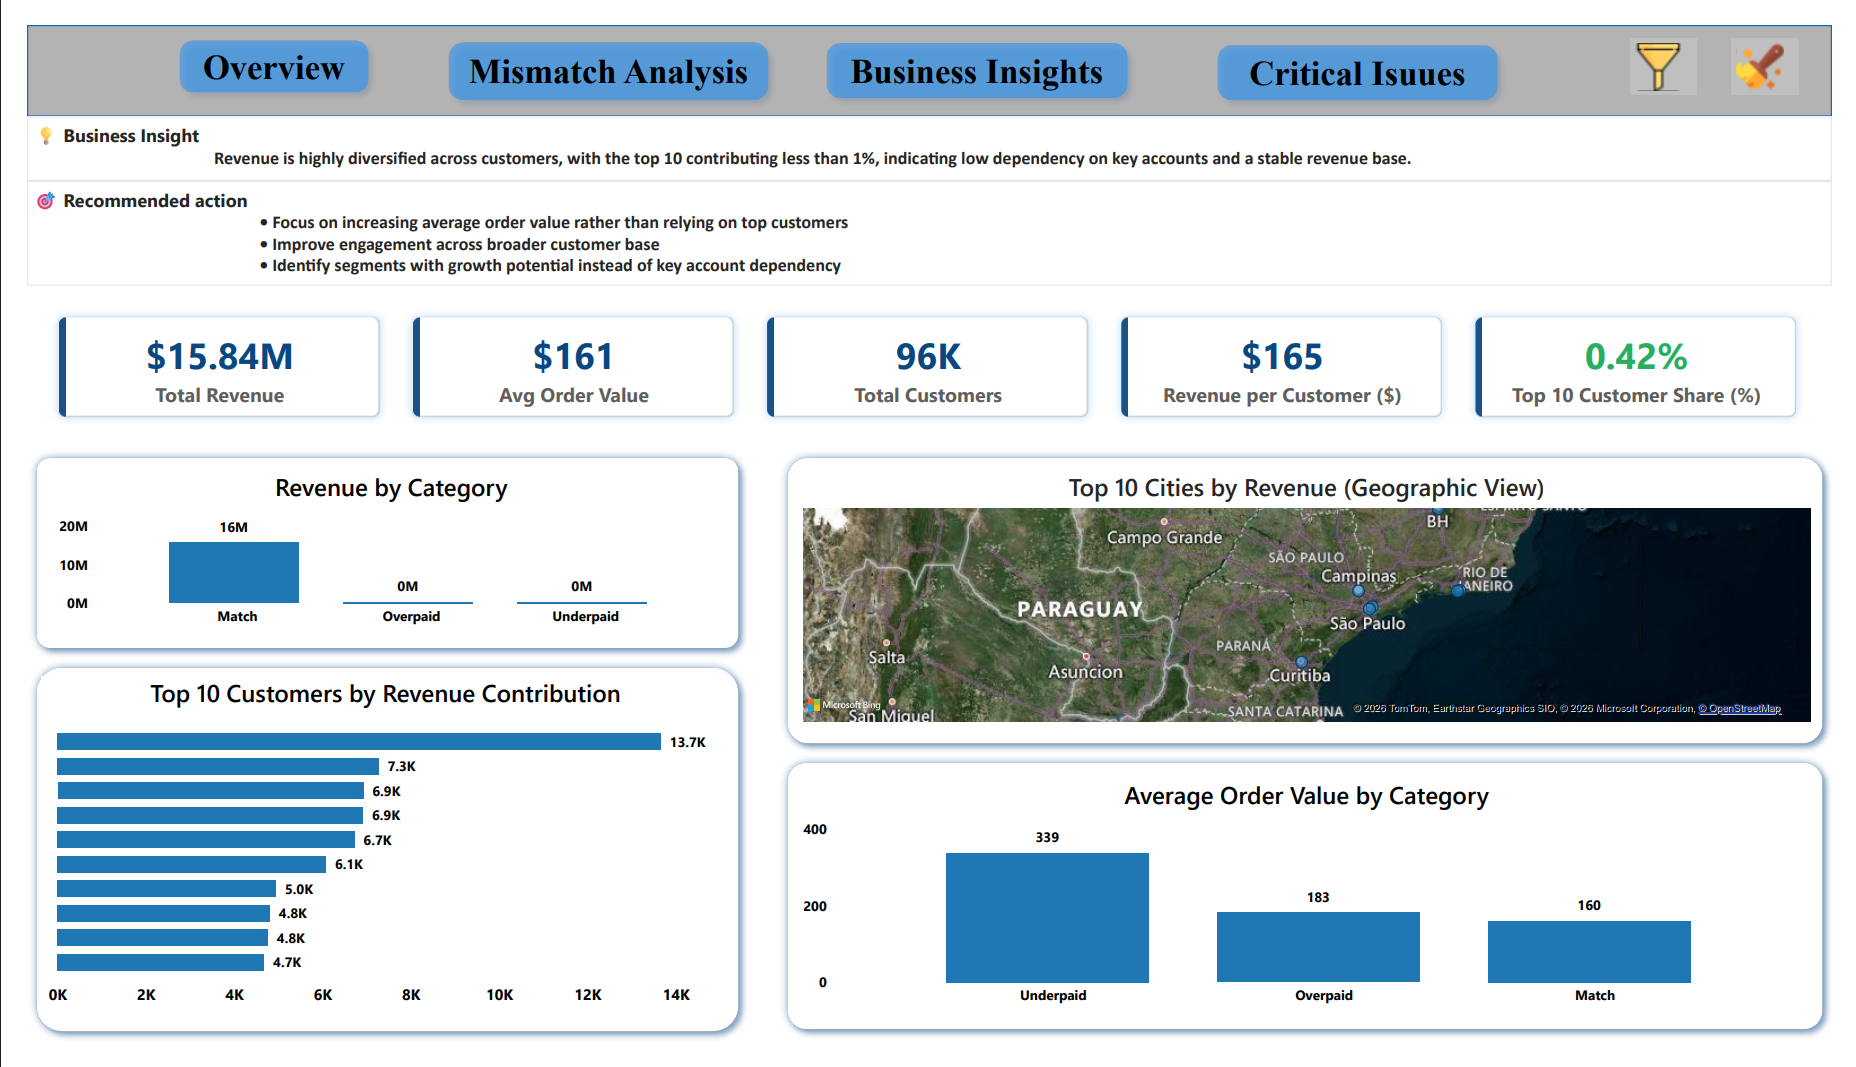

The page's visual inventory and layout, read from the dashboard file:
{"tool":"powerbi","page":{"name":"Business Insights","canvas":[1600,900],"ordinal":3},"visuals":[{"type":"shape","box":[0,0,1600.3,81],"z":0},{"type":"actionButton","box":[127.1,5.4,184.3,62.6],"z":1000},{"type":"actionButton","box":[365.1,7.2,300.7,68],"z":2000},{"type":"actionButton","box":[699.8,7.2,284.6,66.2],"z":3000},{"type":"actionButton","box":[1047,8.9,264.9,66.2],"z":4000},{"type":"cardVisual","fields":{"Data":["measure.Expected Revenue","measure.Avg Order Value","measure.Total Customers","measure.Revenue per Customer","measure.Top 10 Contribution %"]},"box":[0,231.2,1600,143.8],"z":5000},{"type":"shape","box":[0,375,639.1,185.9],"z":6000},{"type":"shape","box":[665.6,375,934.4,270.3],"z":7000},{"type":"shape","box":[0,560.9,639.1,339.1],"z":8000},{"type":"clusteredColumnChart","title":"Revenue by Category","fields":{"Category":["vw_reconciliation.category"],"Y":["measure.Expected Revenue"]},"box":[23.4,393.8,600,148.4],"z":9000},{"type":"map","title":"Top 10 Cities by Revenue (Geographic View)","fields":{"Category":["customers.Location"]},"box":[682.8,393.8,903.1,228.1],"z":10000},{"type":"clusteredBarChart","title":"Top 10 Customers by Revenue Contribution","fields":{"Category":["customers.customer_unique_id"],"Y":["measure.Expected Revenue"]},"box":[12.5,576.6,610.9,301.6],"z":11000},{"type":"shape","box":[665.6,645.3,934.4,253.1],"z":12000},{"type":"clusteredColumnChart","title":"Average Order Value by Category","fields":{"Category":["vw_reconciliation.category"],"Y":["measure.Avg Order Value"]},"box":[682.8,667.2,903.1,210.9],"z":13000},{"type":"actionButton","title":"Funnel Open","box":[1421.2,12.1,58.6,50],"z":16000},{"type":"actionButton","box":[1510.9,12.4,60.1,49.7],"z":17000},{"type":"textbox","box":[0,81.2,1600,56.2],"z":17001},{"type":"textbox","box":[0,137.5,1600,93.8],"z":17002}]}

Visuals, with their boxes in screenshot pixels (x1, y1, x2, y2), scaled from the page's 1600x900 canvas onto the 1856x1067 screenshot:
shape: <bbox>0, 0, 1855, 96</bbox>
actionButton: <bbox>147, 6, 361, 81</bbox>
actionButton: <bbox>424, 9, 772, 89</bbox>
actionButton: <bbox>812, 9, 1142, 87</bbox>
actionButton: <bbox>1215, 11, 1522, 89</bbox>
cardVisual - measure.Expected Revenue x measure.Avg Order Value: <bbox>0, 274, 1855, 445</bbox>
shape: <bbox>0, 445, 741, 665</bbox>
shape: <bbox>772, 445, 1855, 765</bbox>
shape: <bbox>0, 665, 741, 1066</bbox>
"Revenue by Category" clusteredColumnChart: <bbox>27, 467, 723, 643</bbox>
"Top 10 Cities by Revenue (Geographic View)" map: <bbox>792, 467, 1840, 737</bbox>
"Top 10 Customers by Revenue Contribution" clusteredBarChart: <bbox>14, 684, 723, 1041</bbox>
shape: <bbox>772, 765, 1855, 1065</bbox>
"Average Order Value by Category" clusteredColumnChart: <bbox>792, 791, 1840, 1041</bbox>
"Funnel Open" actionButton: <bbox>1649, 14, 1717, 74</bbox>
actionButton: <bbox>1753, 15, 1822, 74</bbox>
textbox: <bbox>0, 96, 1855, 163</bbox>
textbox: <bbox>0, 163, 1855, 274</bbox>
